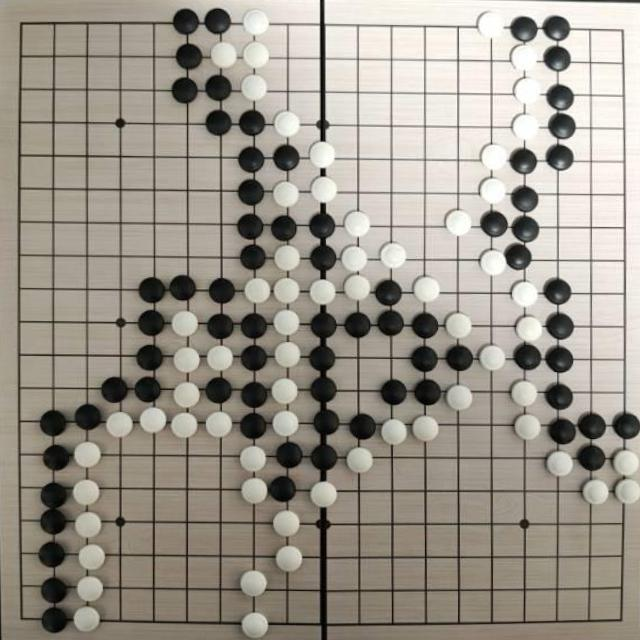blackstone: (138, 276, 166, 304), (74, 403, 102, 431), (39, 410, 67, 438), (40, 482, 68, 510), (40, 508, 68, 536), (612, 412, 640, 440), (546, 314, 575, 341), (137, 309, 165, 336), (175, 43, 203, 70), (240, 412, 267, 440), (510, 148, 538, 175), (544, 278, 572, 305), (43, 444, 70, 472), (546, 84, 574, 111), (578, 414, 606, 441), (268, 476, 296, 503), (504, 243, 532, 270), (548, 113, 576, 140), (172, 8, 200, 35), (38, 541, 66, 568), (542, 15, 570, 42), (41, 607, 69, 634), (237, 213, 264, 240), (273, 144, 300, 171), (205, 75, 232, 102), (241, 382, 268, 409), (134, 376, 161, 403), (205, 377, 232, 404), (101, 376, 128, 403), (41, 577, 68, 604), (310, 312, 338, 338), (238, 146, 264, 174), (240, 313, 268, 339), (169, 274, 197, 300), (309, 345, 337, 371), (172, 77, 198, 105), (480, 211, 508, 237), (310, 445, 338, 471), (549, 419, 577, 445), (543, 46, 571, 72), (578, 446, 606, 472), (510, 16, 538, 42), (310, 245, 337, 271), (208, 278, 235, 304), (412, 313, 439, 339), (239, 110, 266, 136), (136, 345, 163, 371), (411, 346, 438, 372), (206, 109, 232, 136), (241, 345, 268, 371), (414, 379, 441, 405), (511, 186, 538, 212), (546, 384, 573, 410), (514, 344, 541, 370), (276, 442, 302, 469), (547, 145, 574, 171), (204, 8, 230, 35), (310, 378, 338, 403), (546, 347, 574, 372), (309, 212, 335, 238), (271, 215, 297, 241), (376, 280, 402, 306), (238, 179, 264, 205), (240, 244, 266, 270), (378, 310, 404, 336), (345, 312, 371, 338), (313, 409, 339, 435), (512, 216, 538, 242), (208, 314, 235, 339), (381, 380, 407, 405), (350, 414, 376, 439), (446, 346, 473, 370)
whitestone: (74, 512, 103, 540), (78, 543, 107, 571), (511, 45, 539, 73), (513, 78, 541, 106), (74, 441, 102, 469), (240, 477, 268, 505), (273, 510, 301, 538), (481, 144, 508, 172), (512, 114, 540, 141), (173, 347, 201, 374), (242, 42, 270, 69), (173, 381, 201, 408), (139, 407, 167, 434), (310, 481, 338, 508), (72, 479, 100, 506), (612, 449, 639, 477), (76, 576, 105, 602), (341, 246, 368, 273), (309, 141, 336, 168), (273, 309, 300, 336), (241, 74, 268, 101), (207, 345, 234, 372), (272, 410, 299, 437), (106, 411, 133, 438), (171, 412, 198, 439), (310, 177, 338, 203), (273, 278, 301, 304), (478, 344, 506, 370), (515, 316, 543, 342), (274, 342, 302, 368), (171, 311, 199, 337), (546, 451, 574, 477), (514, 414, 542, 440), (380, 419, 408, 445), (239, 446, 267, 472), (476, 12, 504, 38), (276, 546, 304, 572), (240, 571, 268, 597), (73, 606, 101, 632), (241, 612, 269, 638), (414, 277, 441, 303), (479, 178, 506, 204), (274, 111, 301, 137), (309, 280, 336, 306), (274, 245, 301, 271), (244, 278, 271, 304), (511, 381, 538, 407), (446, 385, 473, 411), (272, 378, 298, 405), (412, 416, 439, 442), (346, 447, 373, 473), (205, 412, 232, 438), (582, 480, 609, 506), (344, 211, 370, 237), (273, 181, 299, 207), (344, 274, 370, 300), (446, 210, 472, 236), (480, 250, 506, 276), (211, 42, 237, 68), (243, 10, 269, 36), (512, 282, 539, 307), (445, 313, 472, 338), (381, 242, 406, 268), (614, 479, 640, 504)
